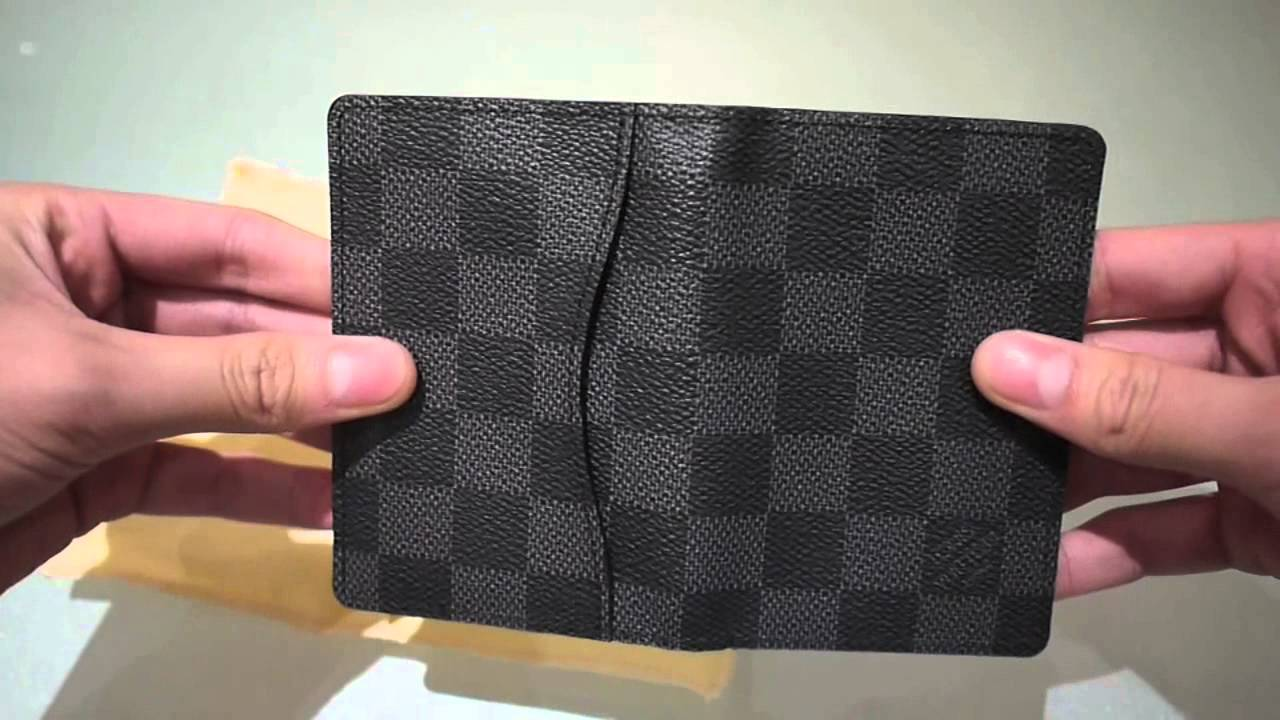monedero: (323, 89, 1109, 662)
